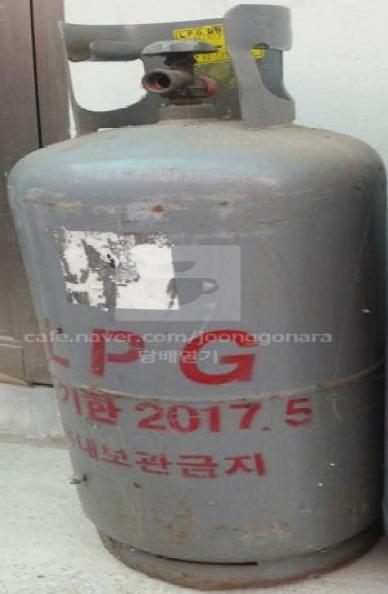cylinder: (0, 1, 388, 594)
